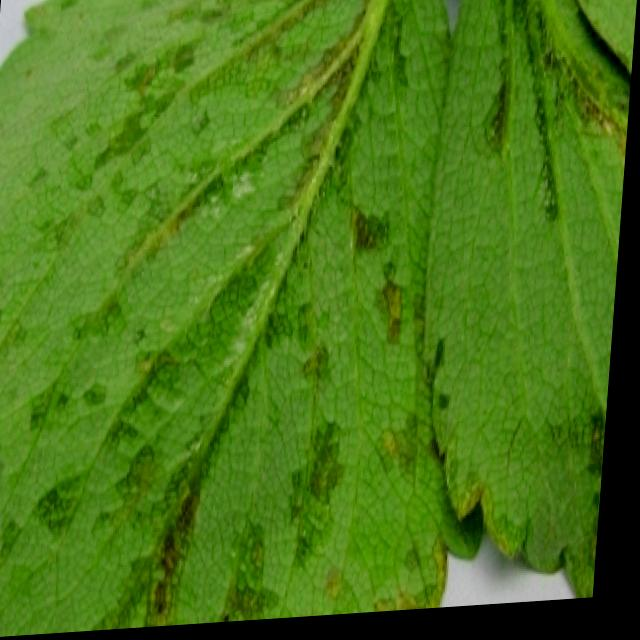Angular Leafspot: (0, 0, 492, 638), (428, 0, 633, 607), (569, 0, 638, 83)
